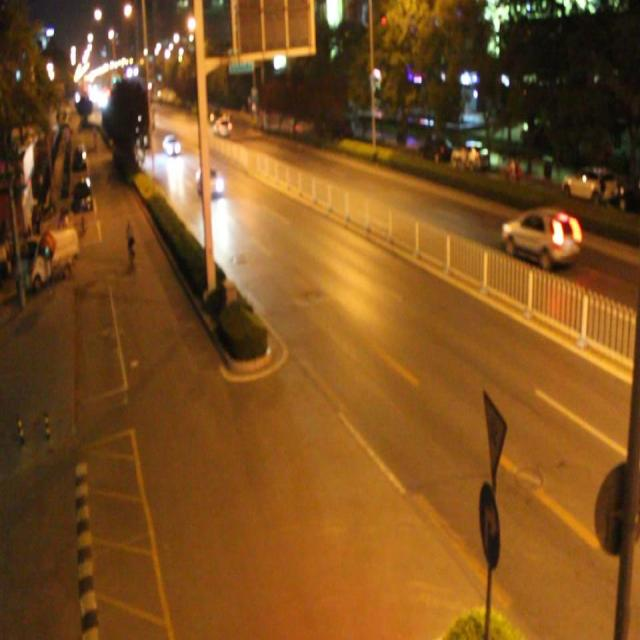car: (502, 206, 582, 268), (196, 166, 223, 197), (213, 117, 232, 138), (163, 133, 180, 156)
